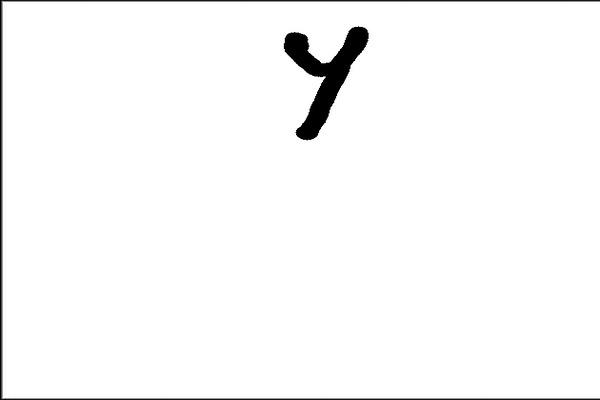Y: (274, 19, 377, 148)
